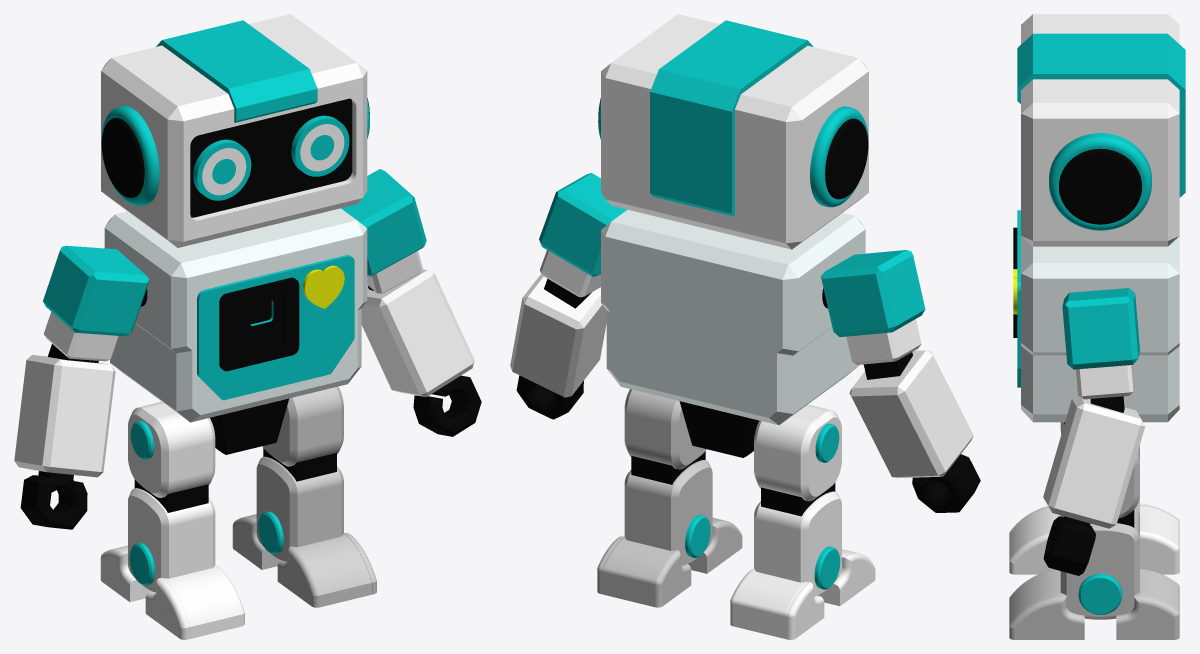
Rendered from nakamurobo.glb.
3 renders of one model, left to right at view 1: azimuth 30°, elevation 25°; view 2: azimuth 150°, elevation 25°; view 3: azimuth 270°, elevation 25°, orthographic.
Visible parts, largest first — view 1: BODY２; view 2: BODY２; view 3: BODY２.
Part boxes in pixels (bbox=[...]): BODY２: bbox=[14, 14, 481, 639]; BODY２: bbox=[510, 14, 980, 639]; BODY２: bbox=[1009, 14, 1185, 639].
Bounding box in the file's own units: 0.1318 × 0.1495 × 0.0445.
